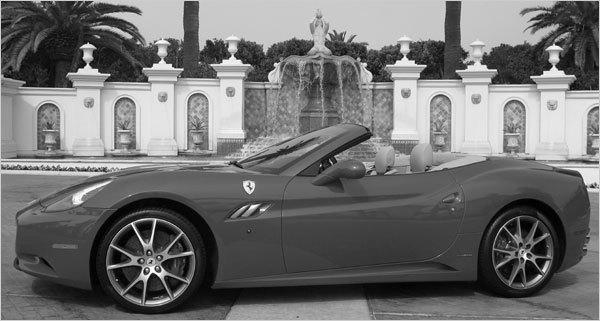car: (13, 125, 591, 315)
